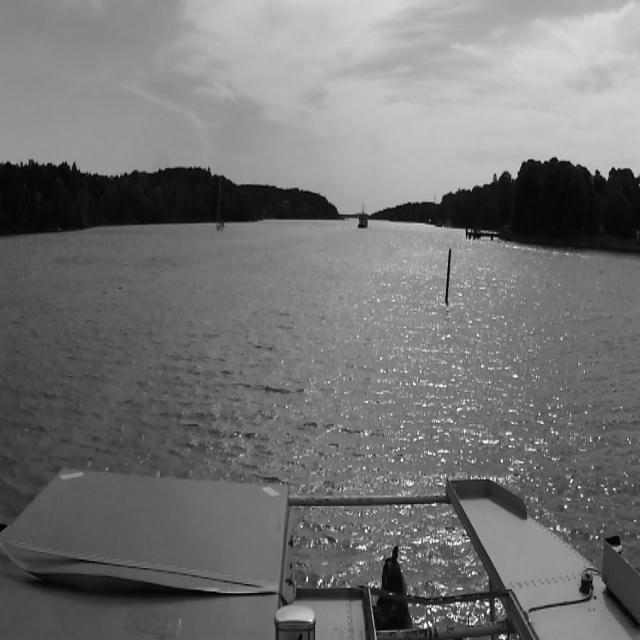buoy: (445, 249, 452, 301)
ship: (216, 176, 224, 229), (358, 216, 367, 228)
